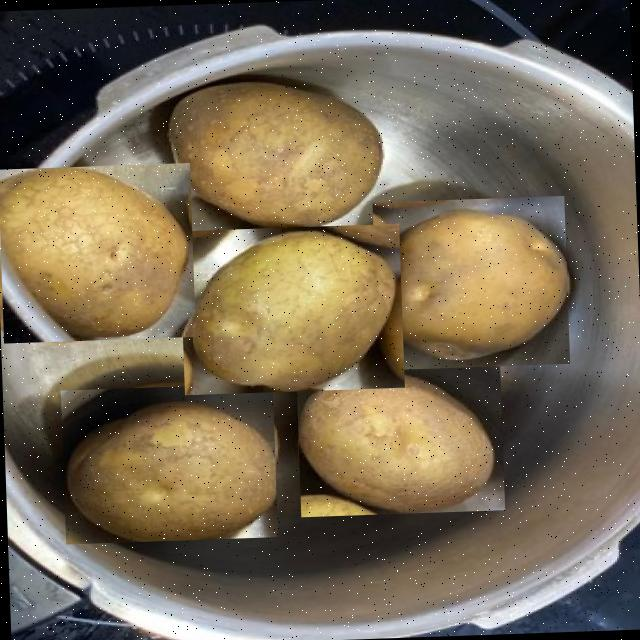Potato: (178, 223, 404, 395), (165, 70, 388, 236), (0, 162, 195, 343), (60, 383, 278, 544), (372, 195, 570, 370), (296, 358, 504, 517)
